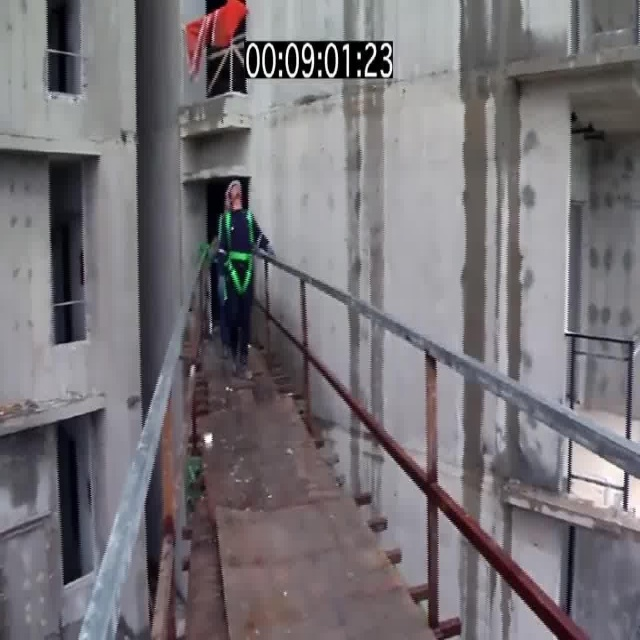Arnes_seguridad: (225, 212, 255, 293)
